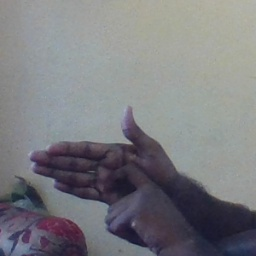R: (28, 108, 189, 244)
